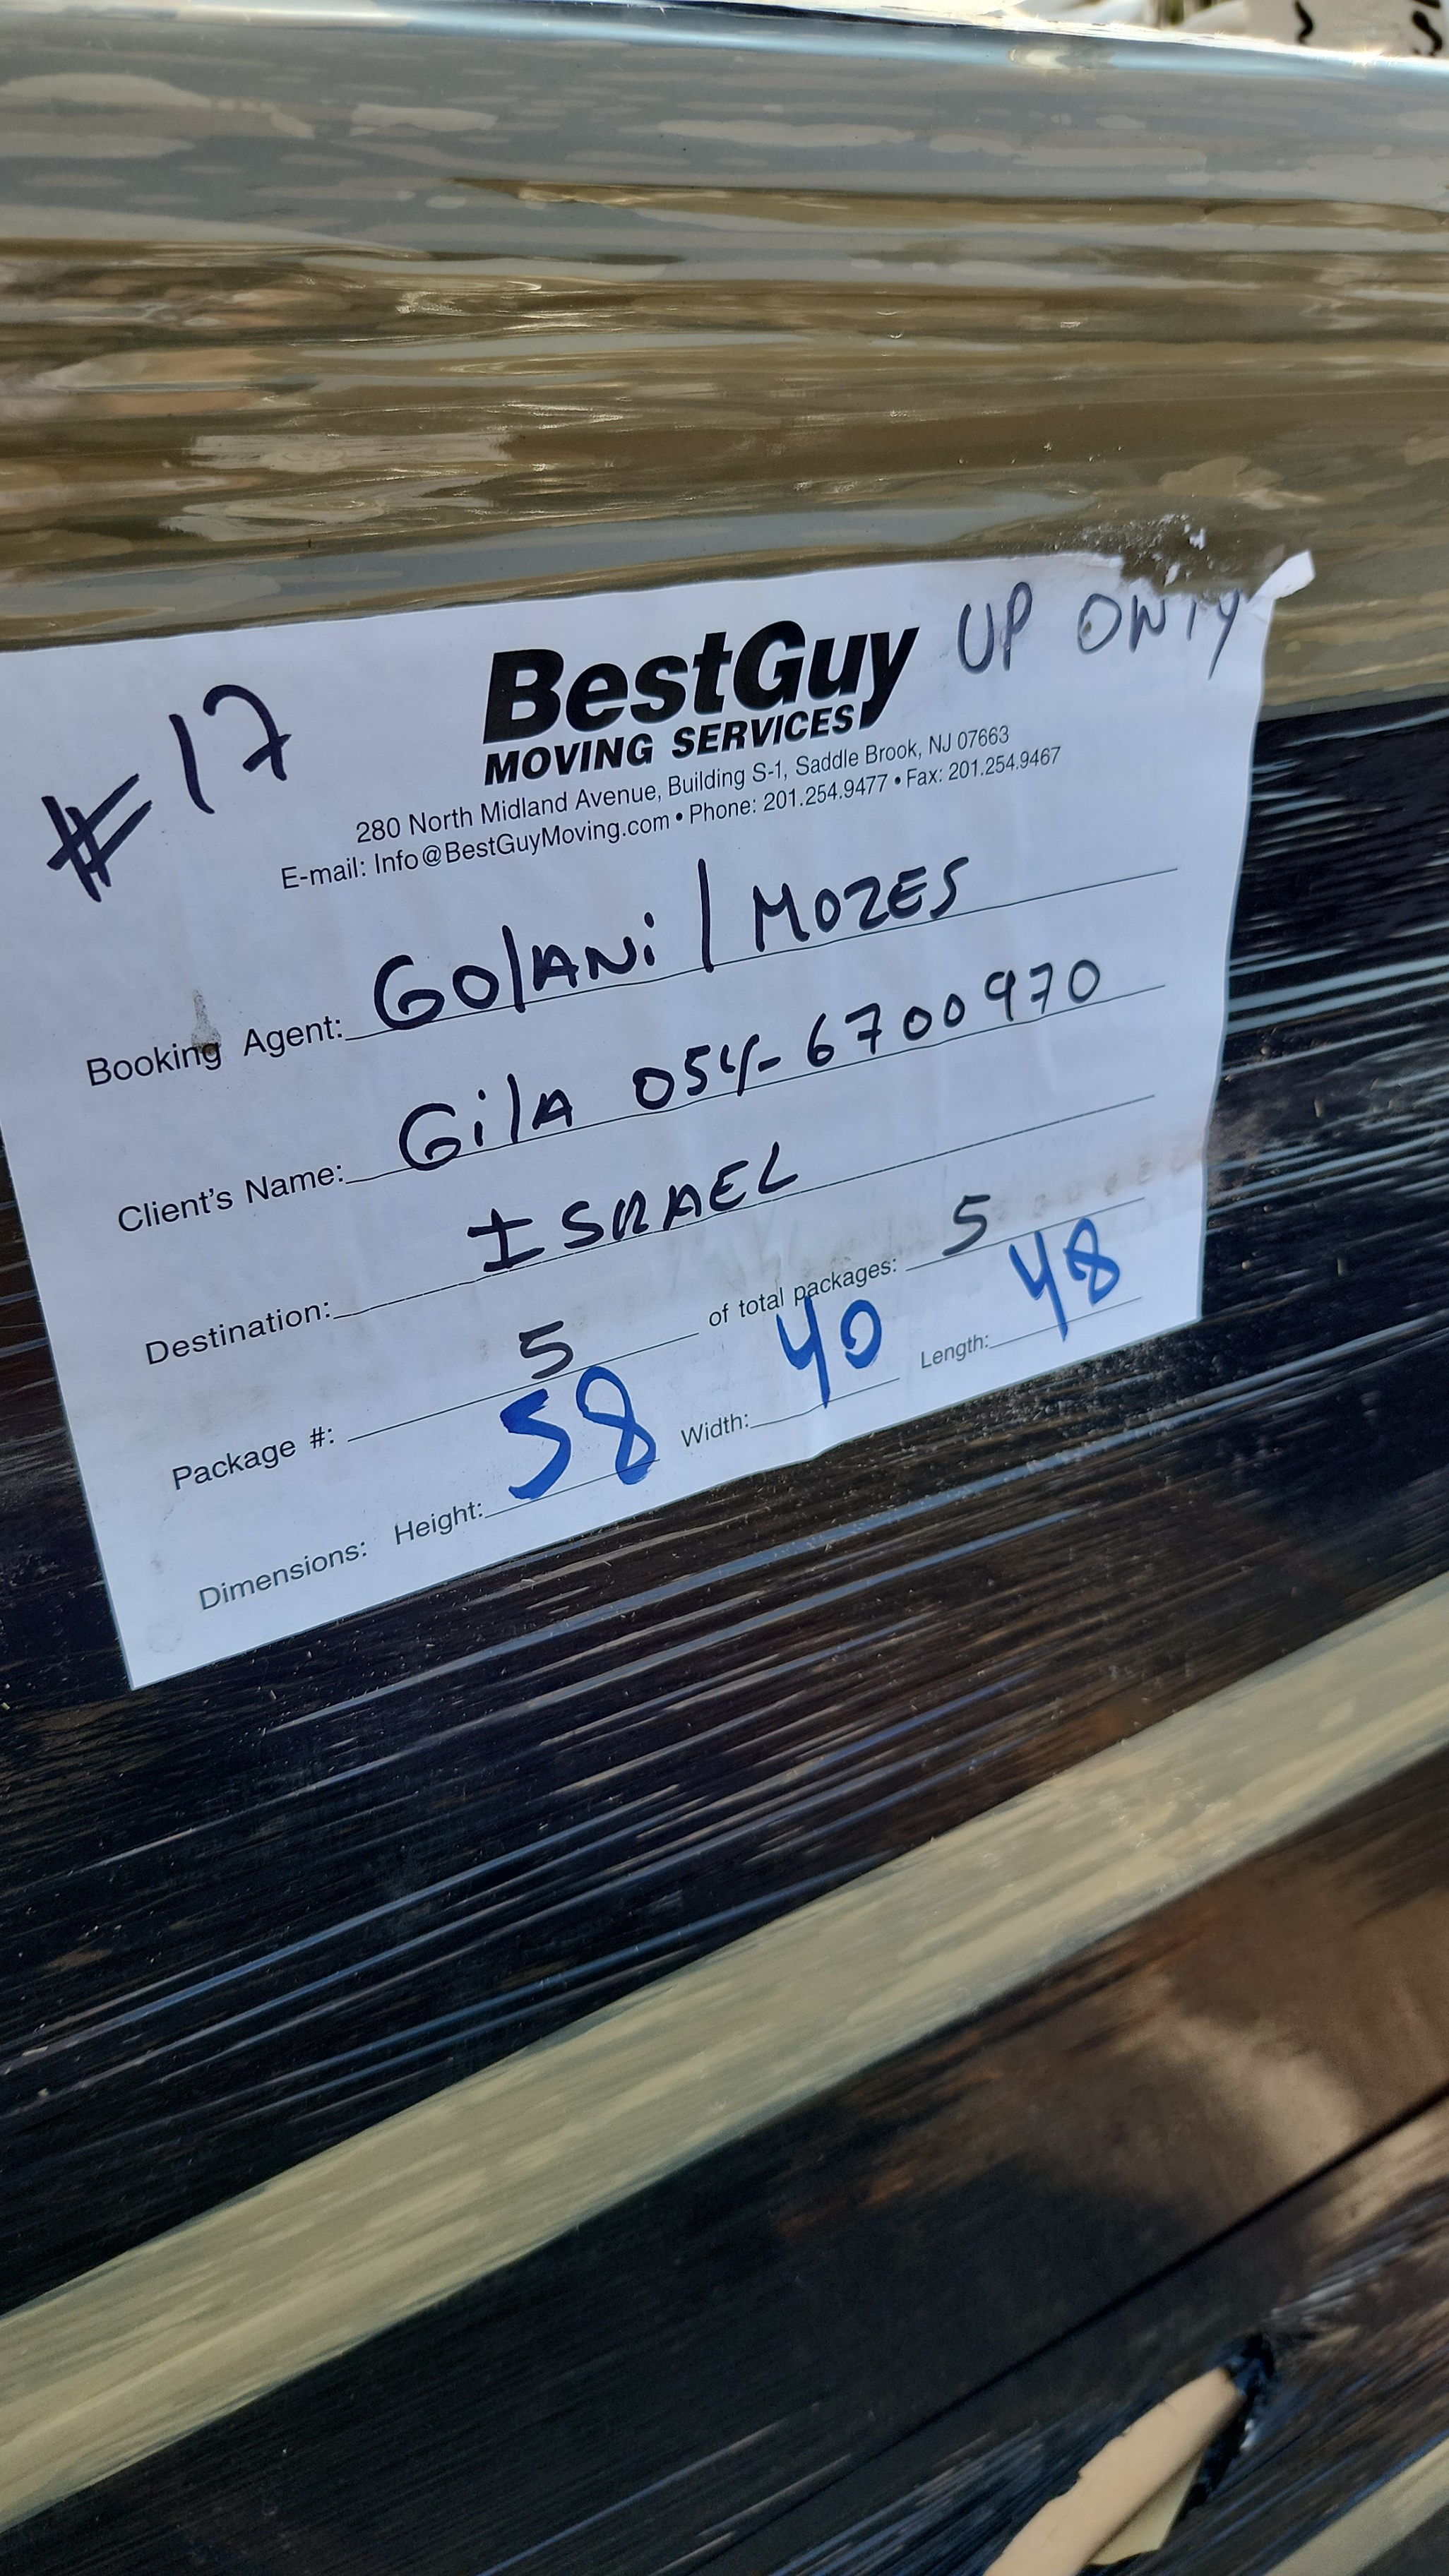paper: (39, 577, 1322, 1536)
